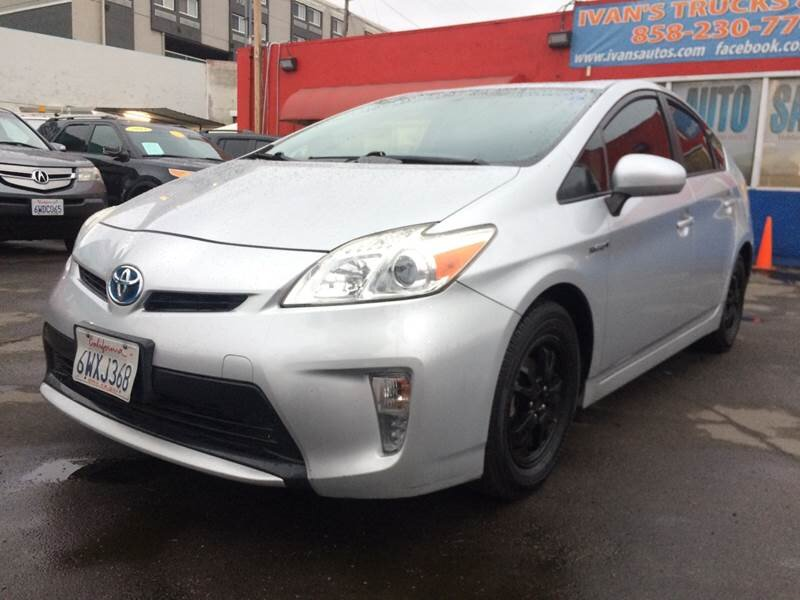Toyota Prius: (35, 76, 757, 510)
